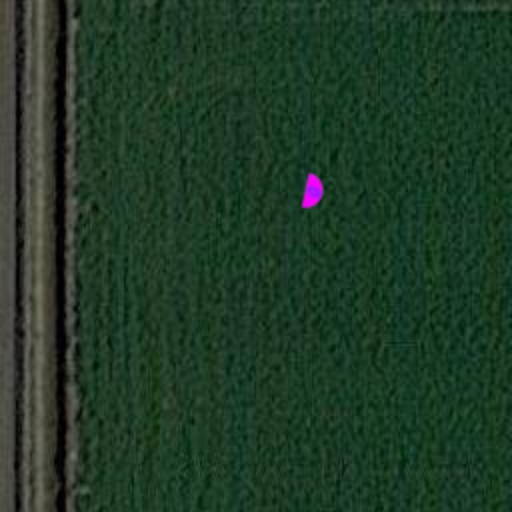semicircle: (292, 170, 336, 214)
